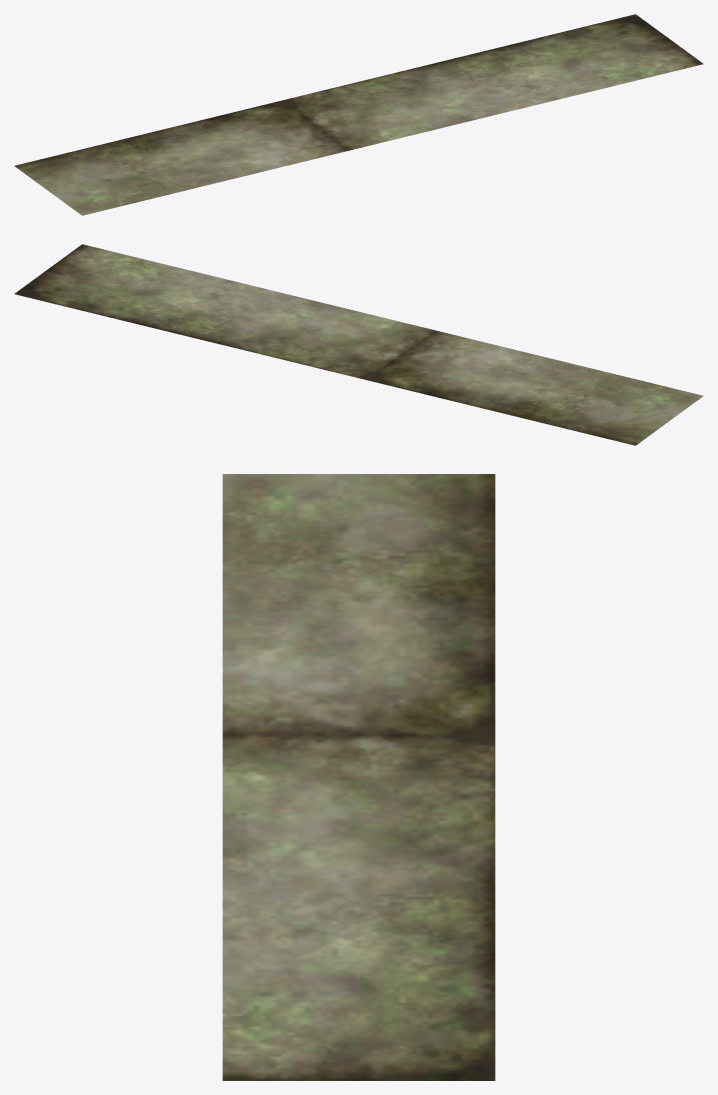
Rendered from OVERHILL_A_01_OBJECT133.fbx.
The picture shows the model from 3 angles, top to bottom: view 1: azimuth 30°, elevation 25°; view 2: azimuth 150°, elevation 25°; view 3: azimuth 270°, elevation 25°; orthographic projection. The views are drawn at different scales.
Visible parts, largest first — view 1: OVERHILL_A_01_OBJECT133; view 2: OVERHILL_A_01_OBJECT133; view 3: OVERHILL_A_01_OBJECT133.
Boxes of the visible parts, x1,y1,x2,y2 form: OVERHILL_A_01_OBJECT133: (14,14,703,215); OVERHILL_A_01_OBJECT133: (14,244,703,445); OVERHILL_A_01_OBJECT133: (222,474,495,1080).
Bounding box in the file's own units: 40000 × 0.00124 × 7605.
1 material, 1 textured.
